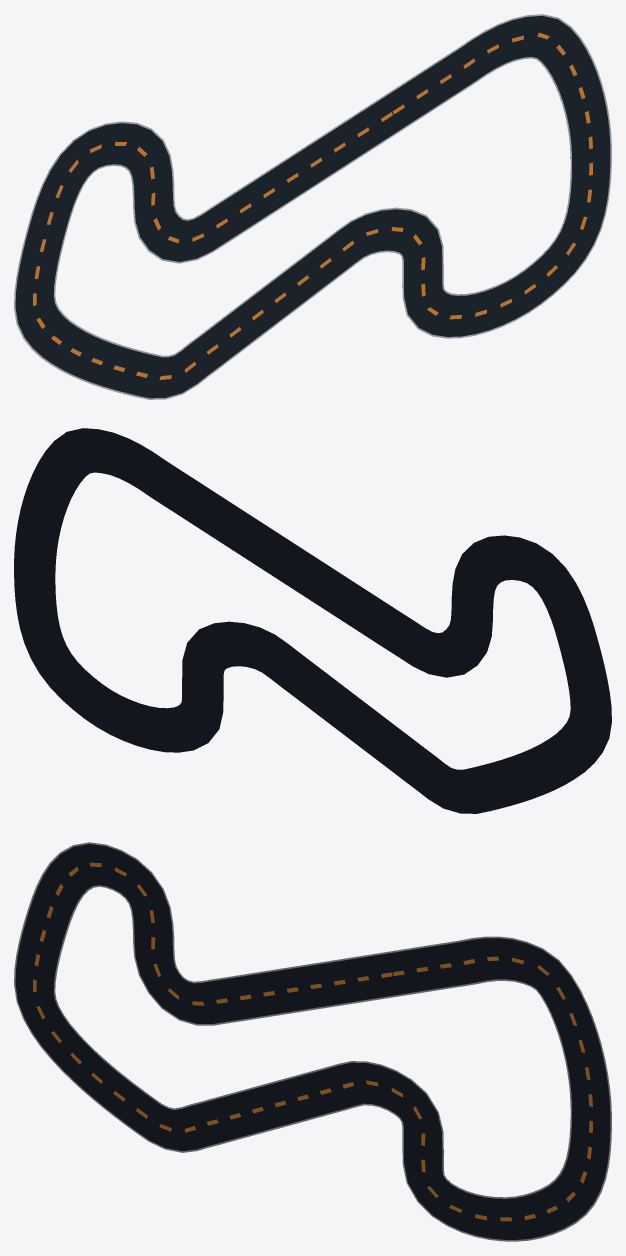
The model's file is track.obj.
3 views of the same model, one above another, from view 1: azimuth 30°, elevation 25°; view 2: azimuth 150°, elevation 25°; view 3: azimuth 330°, elevation 25° (orthographic).
Size of the model in its own units: 15.4 by 7.58 by 0.002.
